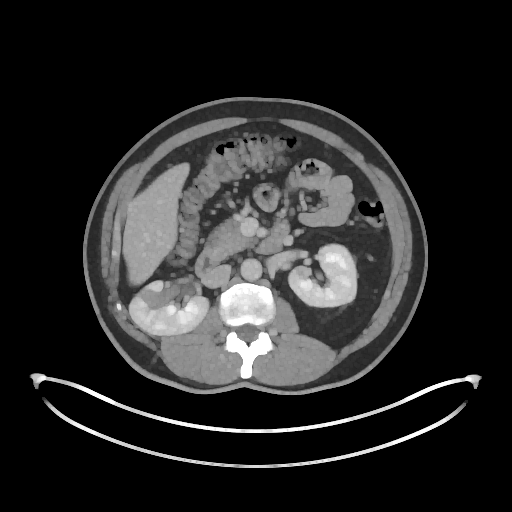Lesion: (138, 286, 174, 311)
